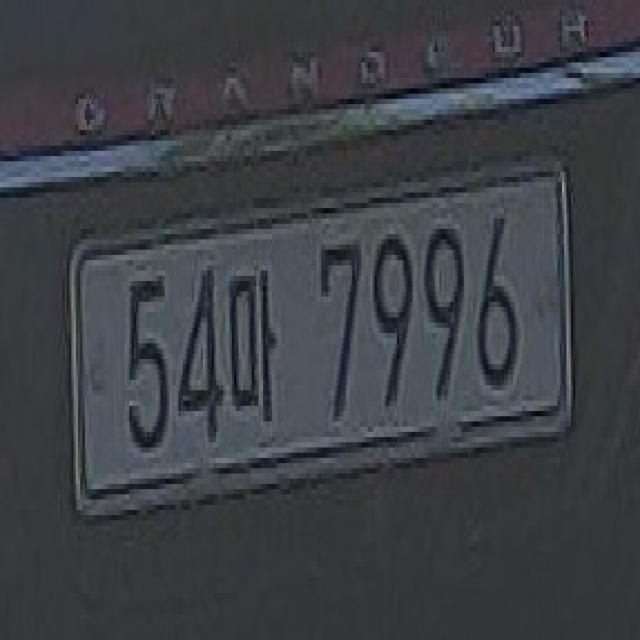4: (174, 224, 225, 468)
5: (120, 260, 170, 458)
6: (473, 193, 526, 411)
7: (319, 219, 368, 437)
9: (366, 193, 419, 437), (422, 198, 468, 426)
license_plate: (55, 151, 578, 541)
ma: (228, 244, 283, 432)
